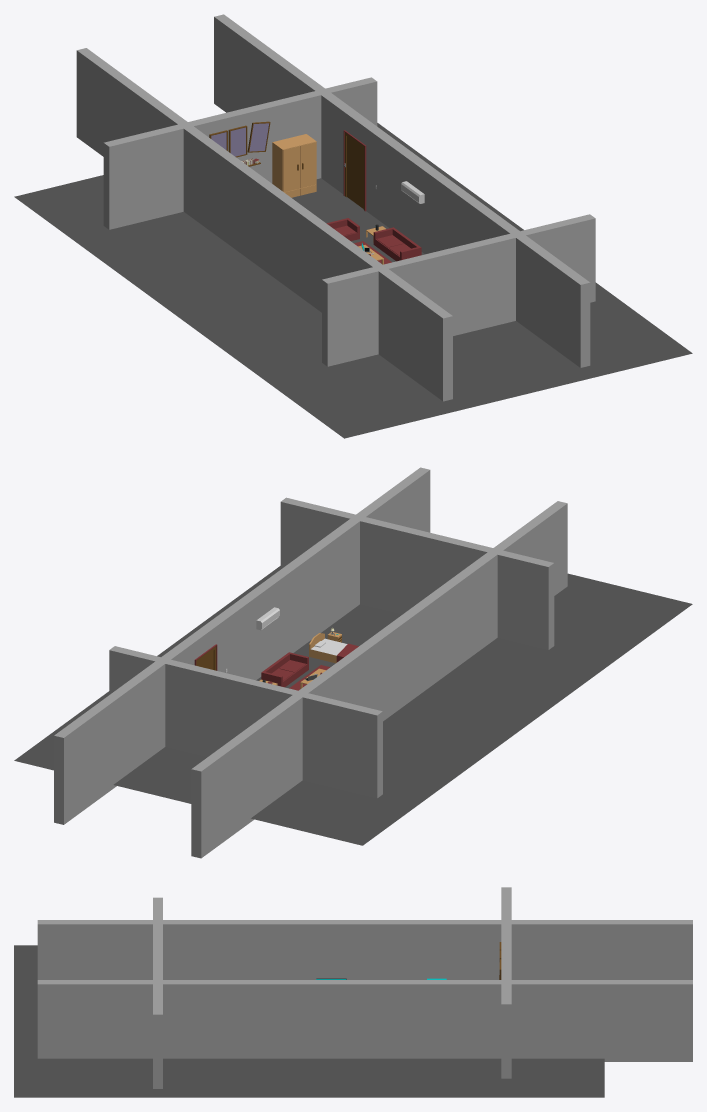
Rendered from Final_Room.fbx.
3 views of the same model, one above another, from view 1: azimuth 30°, elevation 25°; view 2: azimuth 150°, elevation 25°; view 3: azimuth 270°, elevation 25° (orthographic). The views are drawn at different scales.
Parts seen in each view (by area): view 1: pPlane1, pCube56, pCube60, pCube57, pCube59, pCube53, pCube6; view 2: pPlane1, pCube56, pCube60, pCube59, pCube57, pCube6, pCube1; view 3: pCube60, pCube56, pPlane1, pCube59, pCube57.
Part boxes in pixels (bbox=[...]): pPlane1: bbox=[14, 123, 692, 438]; pCube56: bbox=[76, 48, 452, 401]; pCube60: bbox=[214, 14, 590, 367]; pCube57: bbox=[322, 214, 595, 366]; pCube59: bbox=[103, 77, 377, 229]; pCube53: bbox=[272, 134, 316, 197]; pCube6: bbox=[373, 227, 421, 261]; pPlane1: bbox=[14, 566, 692, 845]; pCube56: bbox=[191, 501, 567, 858]; pCube60: bbox=[54, 467, 430, 824]; pCube59: bbox=[109, 646, 382, 798]; pCube57: bbox=[280, 497, 554, 649]; pCube6: bbox=[261, 652, 308, 687]; pCube1: bbox=[309, 633, 358, 663]; pCube60: bbox=[37, 980, 692, 1061]; pCube56: bbox=[37, 920, 692, 979]; pPlane1: bbox=[14, 945, 604, 1097]; pCube59: bbox=[501, 887, 511, 1078]; pCube57: bbox=[153, 897, 162, 1088].
Size of the model in its own units: 490 by 117 by 925.
